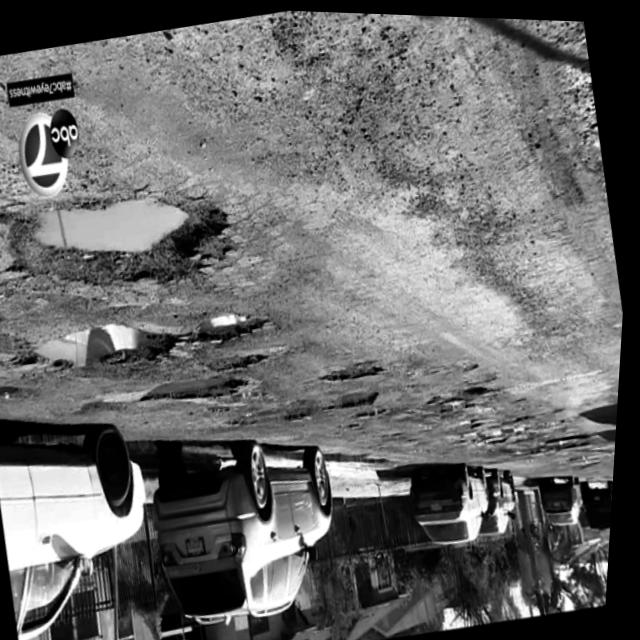pathole: (0, 79, 343, 506), (293, 287, 619, 513)
